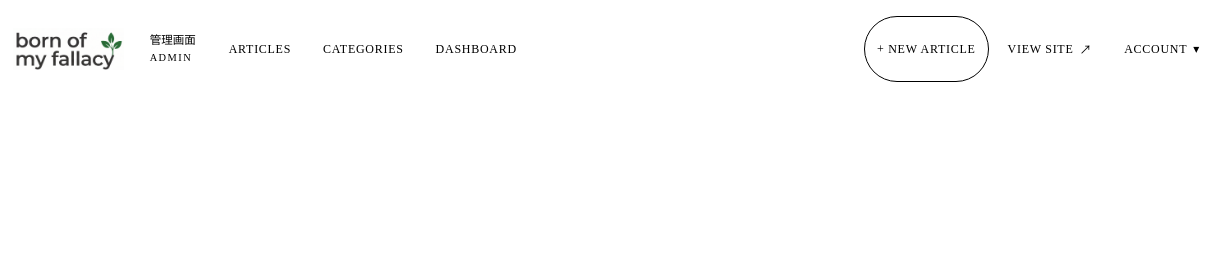
AdminHeader › レンダリング › Logoutボタンが表示される
The width and height of the screenshot is (1230, 268).
Click the button "Account ▾": [1162, 49] box [1111,27,1213,71]
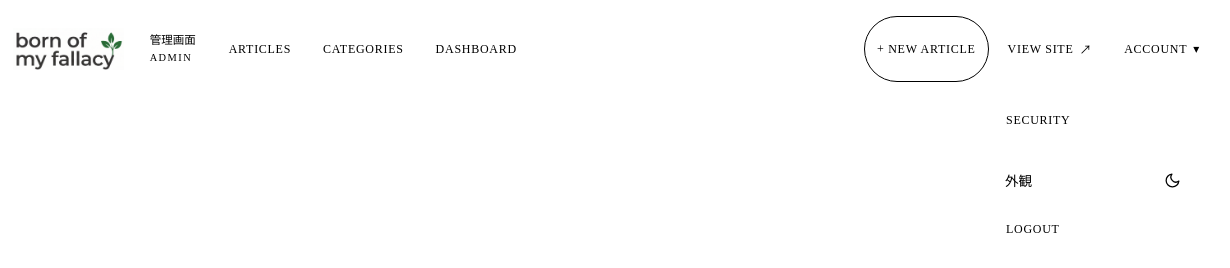
Expected: the button "Logout" is shown, [993,207,1203,251]
